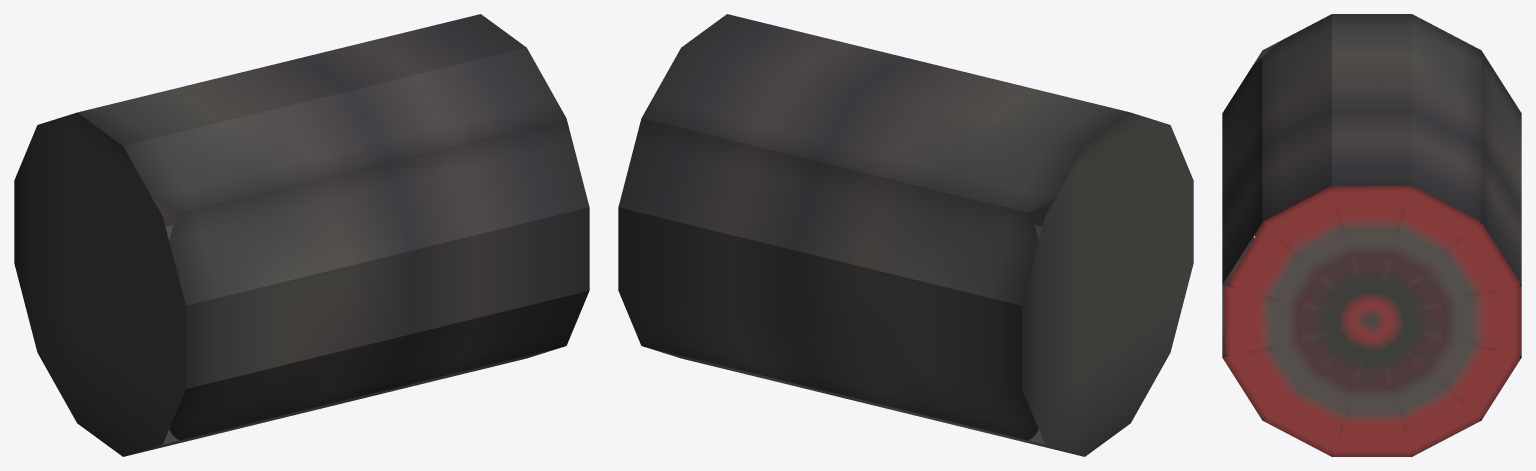
The model's file is pk209_motorwheel.obj.
3 views of the same model, side by side, from view 1: azimuth 30°, elevation 25°; view 2: azimuth 150°, elevation 25°; view 3: azimuth 270°, elevation 25° (orthographic). The views are drawn at different scales.
Parts seen in each view (by area): view 1: cylinder; view 2: cylinder; view 3: cylinder.
Part boxes in pixels (bbox=[...]): cylinder: bbox=[14, 14, 589, 456]; cylinder: bbox=[618, 14, 1193, 456]; cylinder: bbox=[1222, 14, 1521, 456].
Bounding box in the file's own units: 0.1948 × 0.1433 × 0.1433.
1 material, 1 textured.
